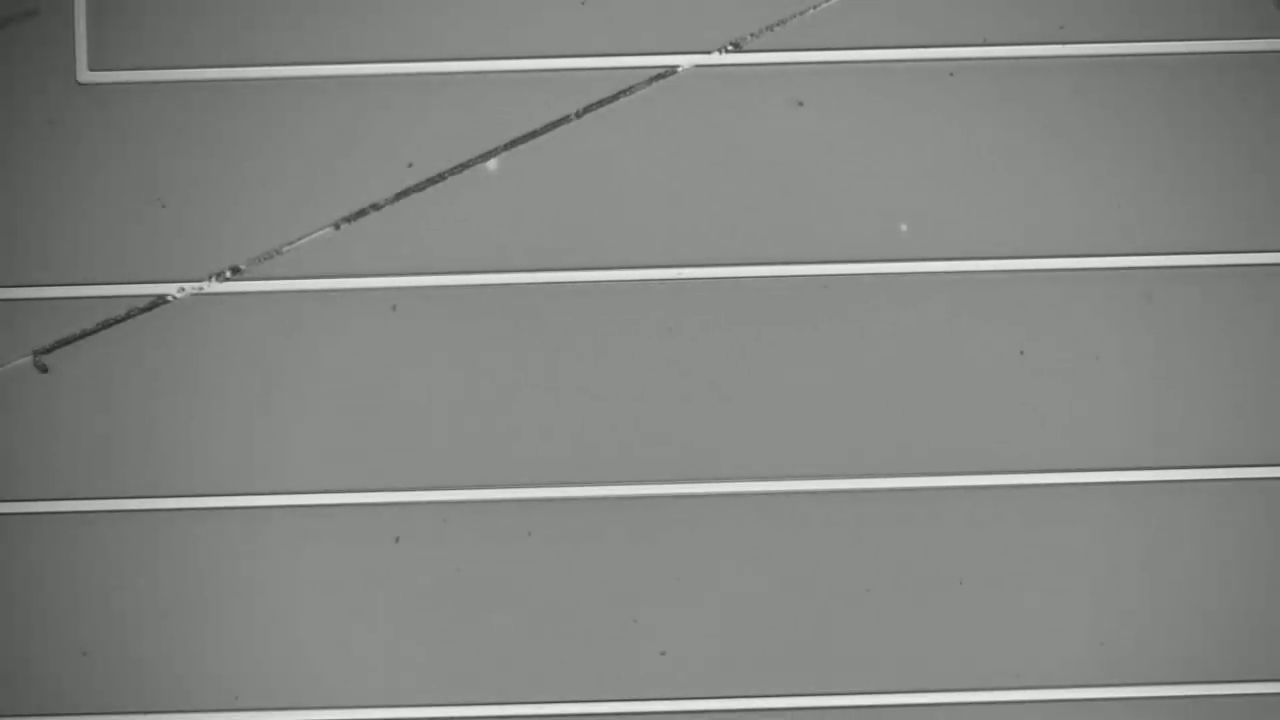scratch: (2, 1, 840, 375)
